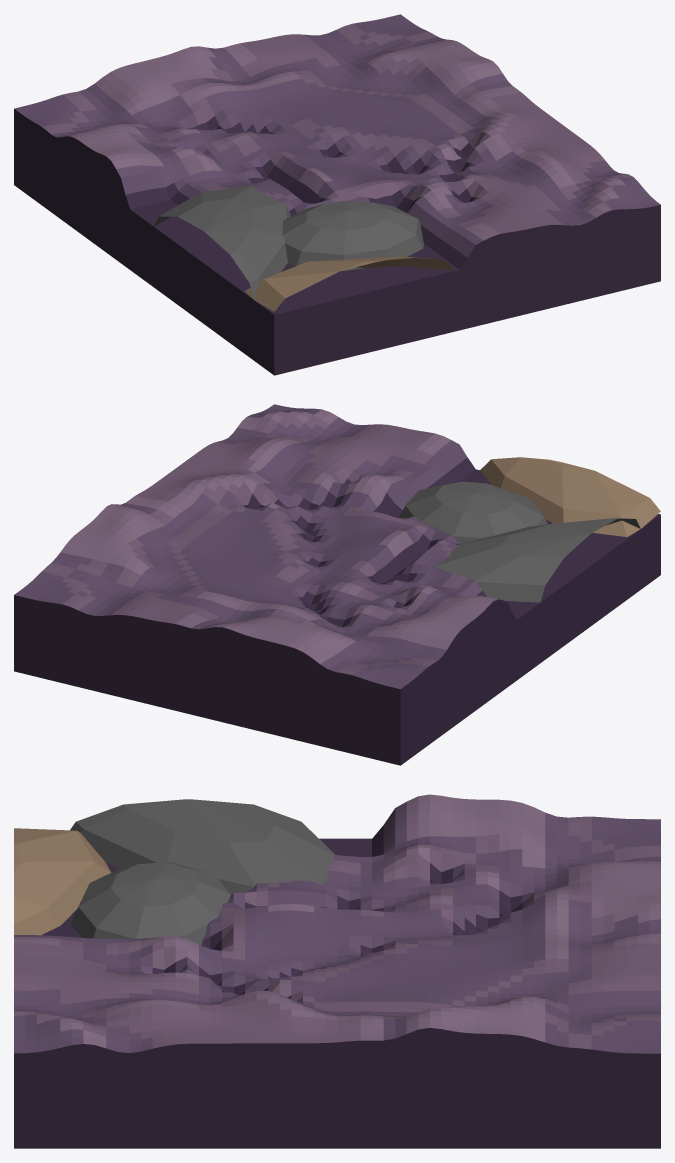
The picture shows the model from 3 angles, top to bottom: view 1: azimuth 30°, elevation 25°; view 2: azimuth 150°, elevation 25°; view 3: azimuth 270°, elevation 25°; orthographic projection. The views are drawn at different scales.
Parts seen in each view (by area): view 1: shapesz-t168; view 2: shapesz-t168; view 3: shapesz-t168.
Part boxes in pixels (x1,y1,x2,y2): shapesz-t168: (14, 14, 660, 375); shapesz-t168: (14, 404, 660, 765); shapesz-t168: (14, 794, 660, 1148).
Bounding box in the file's own units: 2 × 0.4881 × 2.33.
